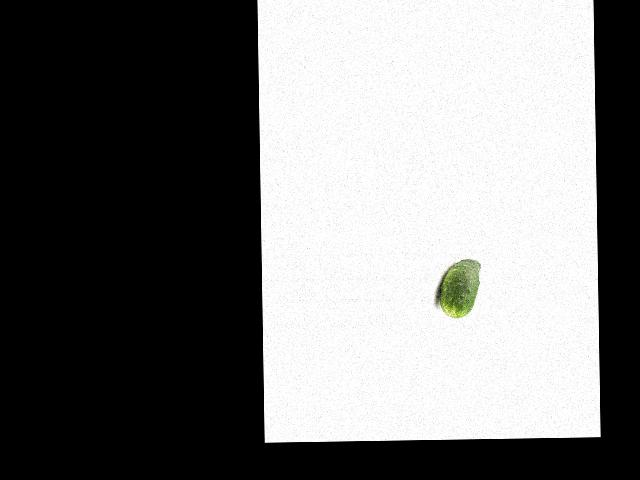cucumber: (438, 258, 481, 318)
